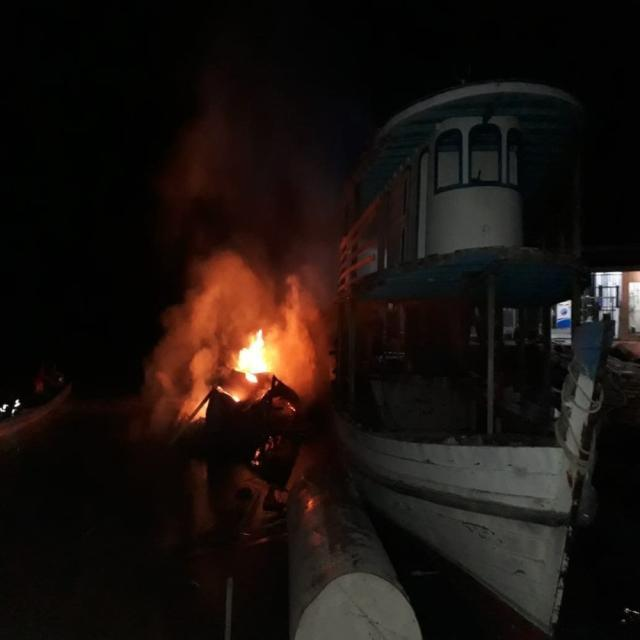Fire: (233, 332, 270, 376)
